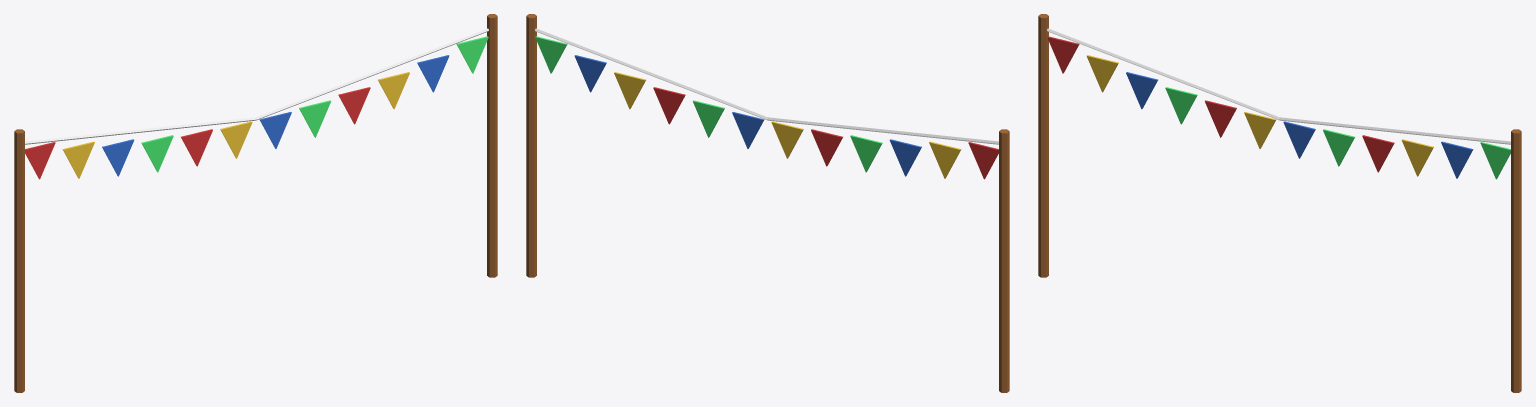
Rendered from PartyBunting.fbx.
3 views of the same model, side by side, from view 1: azimuth 30°, elevation 25°; view 2: azimuth 150°, elevation 25°; view 3: azimuth 330°, elevation 25° (orthographic).
Visible parts, largest first — view 1: PartyBunting; view 2: PartyBunting; view 3: PartyBunting.
Boxes of the visible parts, x1,y1,x2,y2 form: PartyBunting: (14,14,497,392); PartyBunting: (526,14,1009,392); PartyBunting: (1038,14,1521,392).
Size of the model in its own units: 12.21 by 6.3 by 0.24.
Materials: 1 (1 with a texture image).
